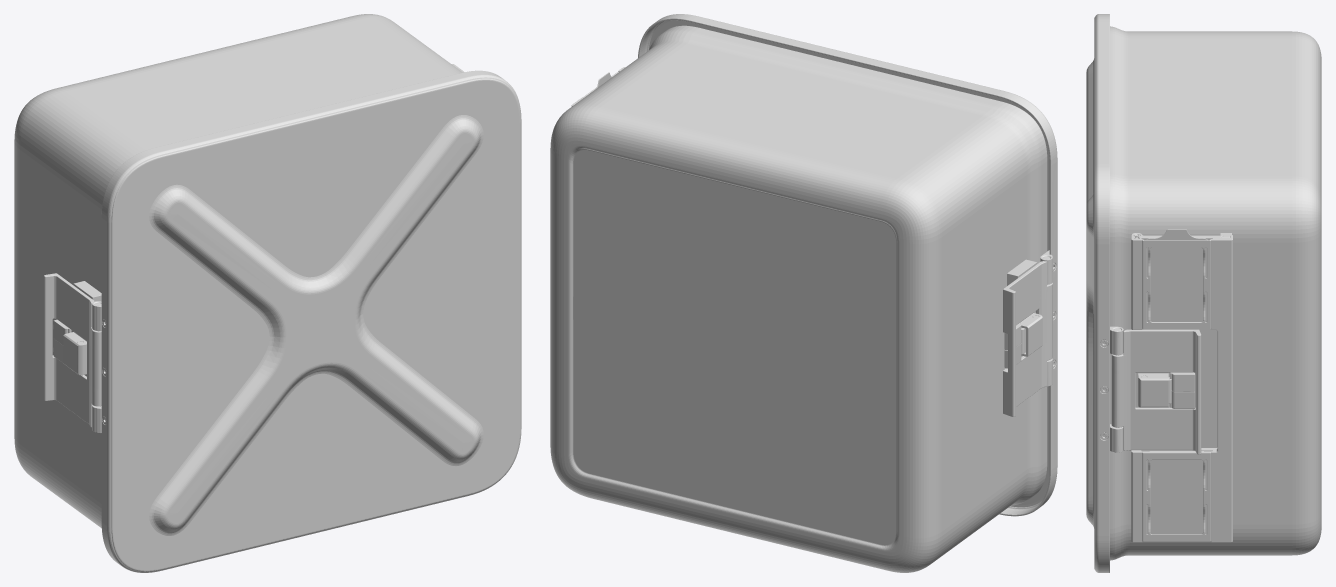
Rendered from container_system_sterilising_a02.glb.
3 views of the same model, side by side, from view 1: azimuth 30°, elevation 25°; view 2: azimuth 150°, elevation 25°; view 3: azimuth 270°, elevation 25° (orthographic). The views are drawn at different scales.
Visible parts, largest first — view 1: lid_01_mesh_00_4, body_01_mesh_00_1, lock_02_mesh_00_3; view 2: body_01_mesh_00_1, lid_01_mesh_00_4, lock_02_mesh_00_3; view 3: body_01_mesh_00_1, labelHolder_01_mesh_00_0, lid_01_mesh_00_4, lock_01_mesh_00_2.
Part boxes in pixels (<box>): lid_01_mesh_00_4: <box>92,70,521,572</box>; body_01_mesh_00_1: <box>14,14,462,527</box>; lock_02_mesh_00_3: <box>44,273,101,427</box>; body_01_mesh_00_1: <box>550,25,1047,572</box>; lid_01_mesh_00_4: <box>638,14,1057,516</box>; lock_02_mesh_00_3: <box>1003,261,1052,416</box>; body_01_mesh_00_1: <box>1110,26,1321,560</box>; labelHolder_01_mesh_00_0: <box>1131,229,1232,542</box>; lid_01_mesh_00_4: <box>1086,14,1123,572</box>; lock_01_mesh_00_2: <box>1111,329,1201,454</box>.
Size of the model in its own units: 0.3278 by 0.3013 by 0.1604.
Materials: 2 (1 with a texture image).
